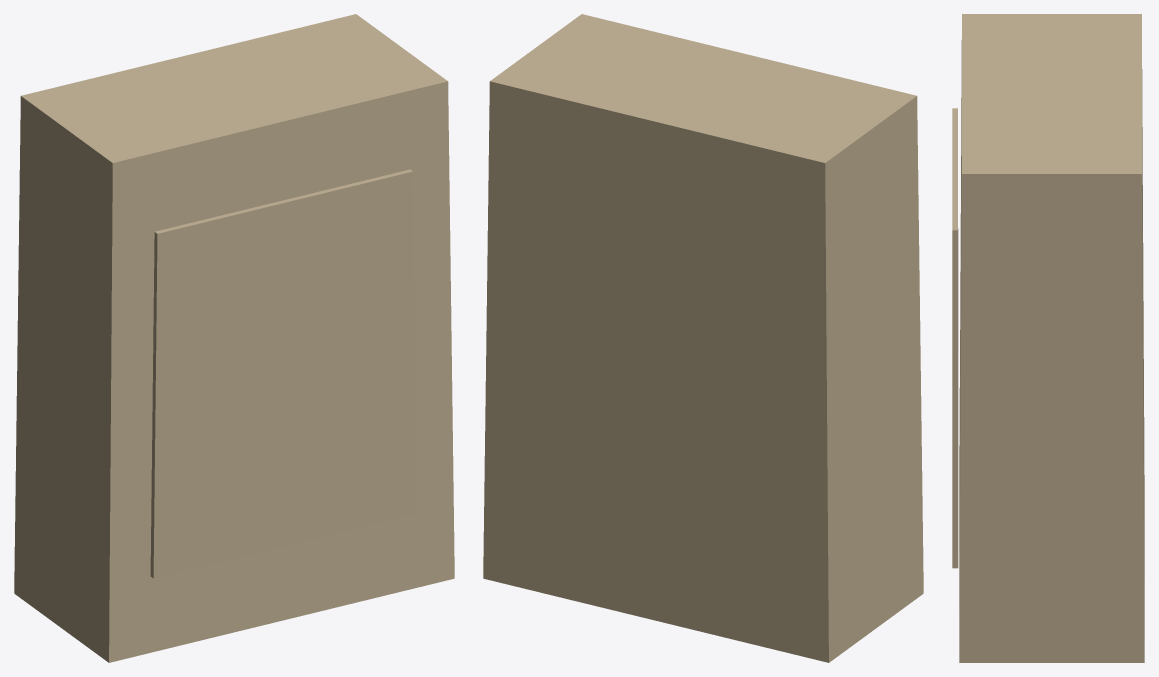
The model's file is switchbox.glb.
The picture shows the model from 3 angles, left to right: view 1: azimuth 30°, elevation 25°; view 2: azimuth 150°, elevation 25°; view 3: azimuth 270°, elevation 25°; orthographic projection. The views are drawn at different scales.
Parts seen in each view (by area): view 1: WB002V2_WallCabinet.005; view 2: WB002V2_WallCabinet.005; view 3: WB002V2_WallCabinet.005.
Part boxes in pixels (x1=…): WB002V2_WallCabinet.005: x1=14, y1=14, x2=454, y2=662; WB002V2_WallCabinet.005: x1=483, y1=14, x2=923, y2=662; WB002V2_WallCabinet.005: x1=952, y1=14, x2=1144, y2=662.
Bounding box in the file's own units: 0.8 × 1.1 × 0.394.
